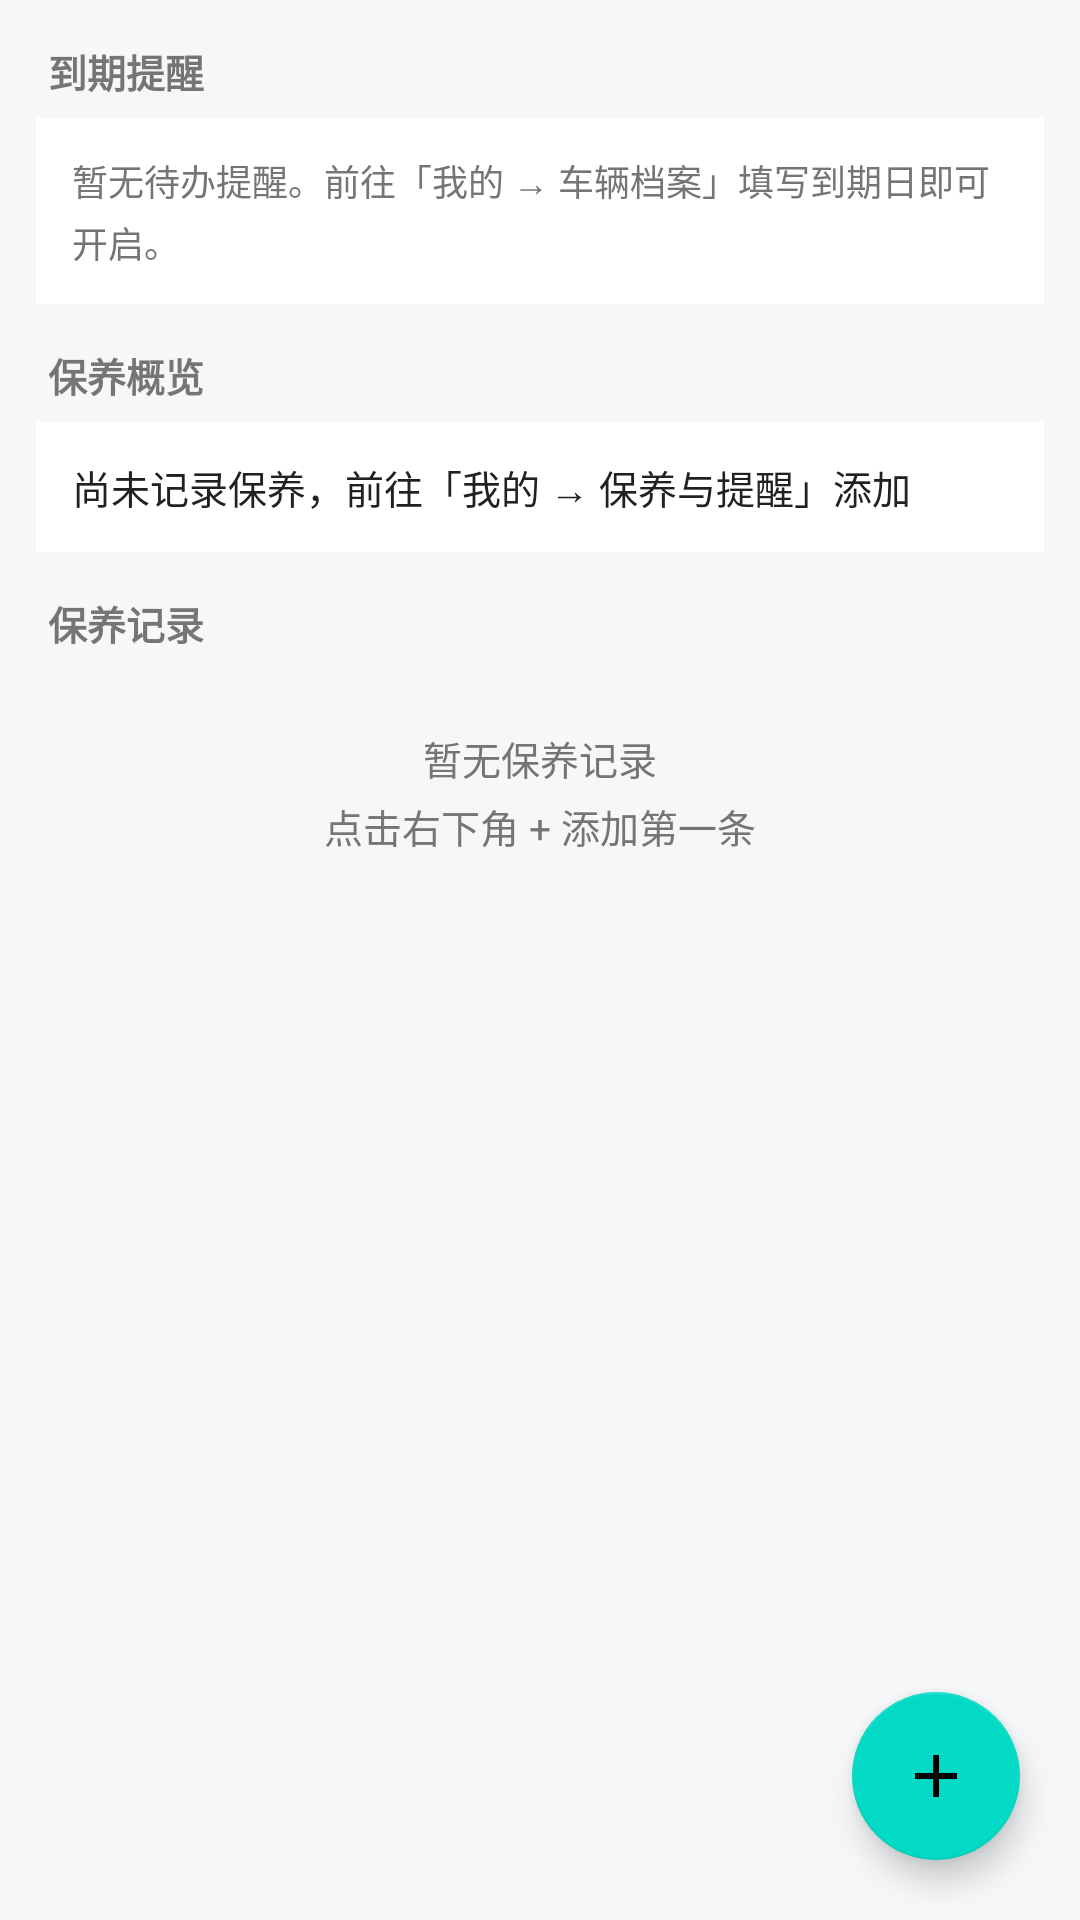

Icons on this 1080x1920 Android screen, each with its box as (x1, y1, x2, y2):
添加保养: (852, 1692, 1020, 1860)
